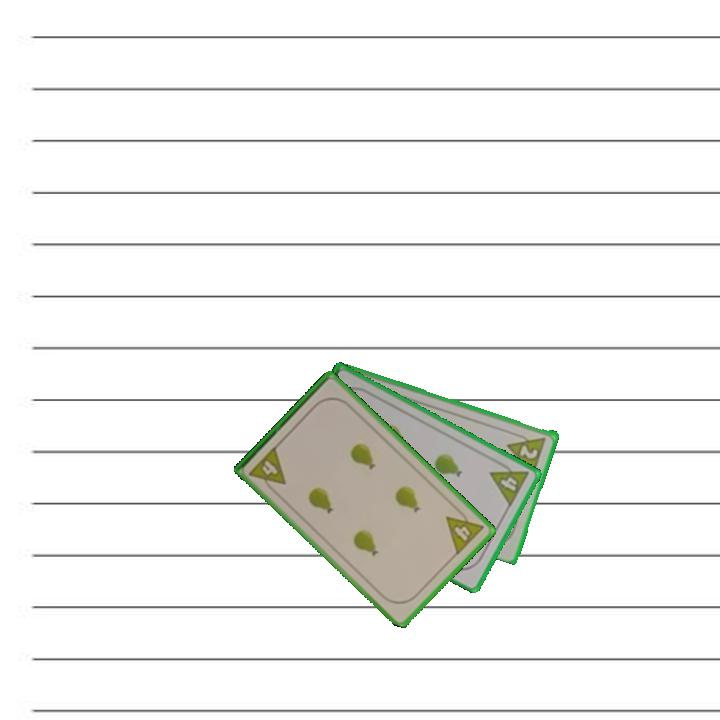2p: (504, 428, 549, 475)
4p: (442, 503, 487, 558), (486, 456, 532, 509), (246, 442, 289, 496)
